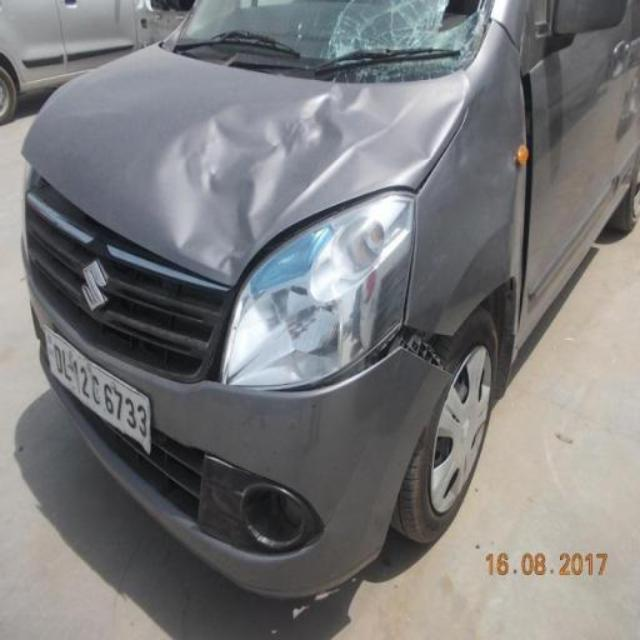dent: (159, 70, 467, 276)
dislocated part: (19, 152, 235, 291), (259, 325, 459, 401), (518, 74, 535, 338)
glass shatter: (326, 0, 503, 79)
